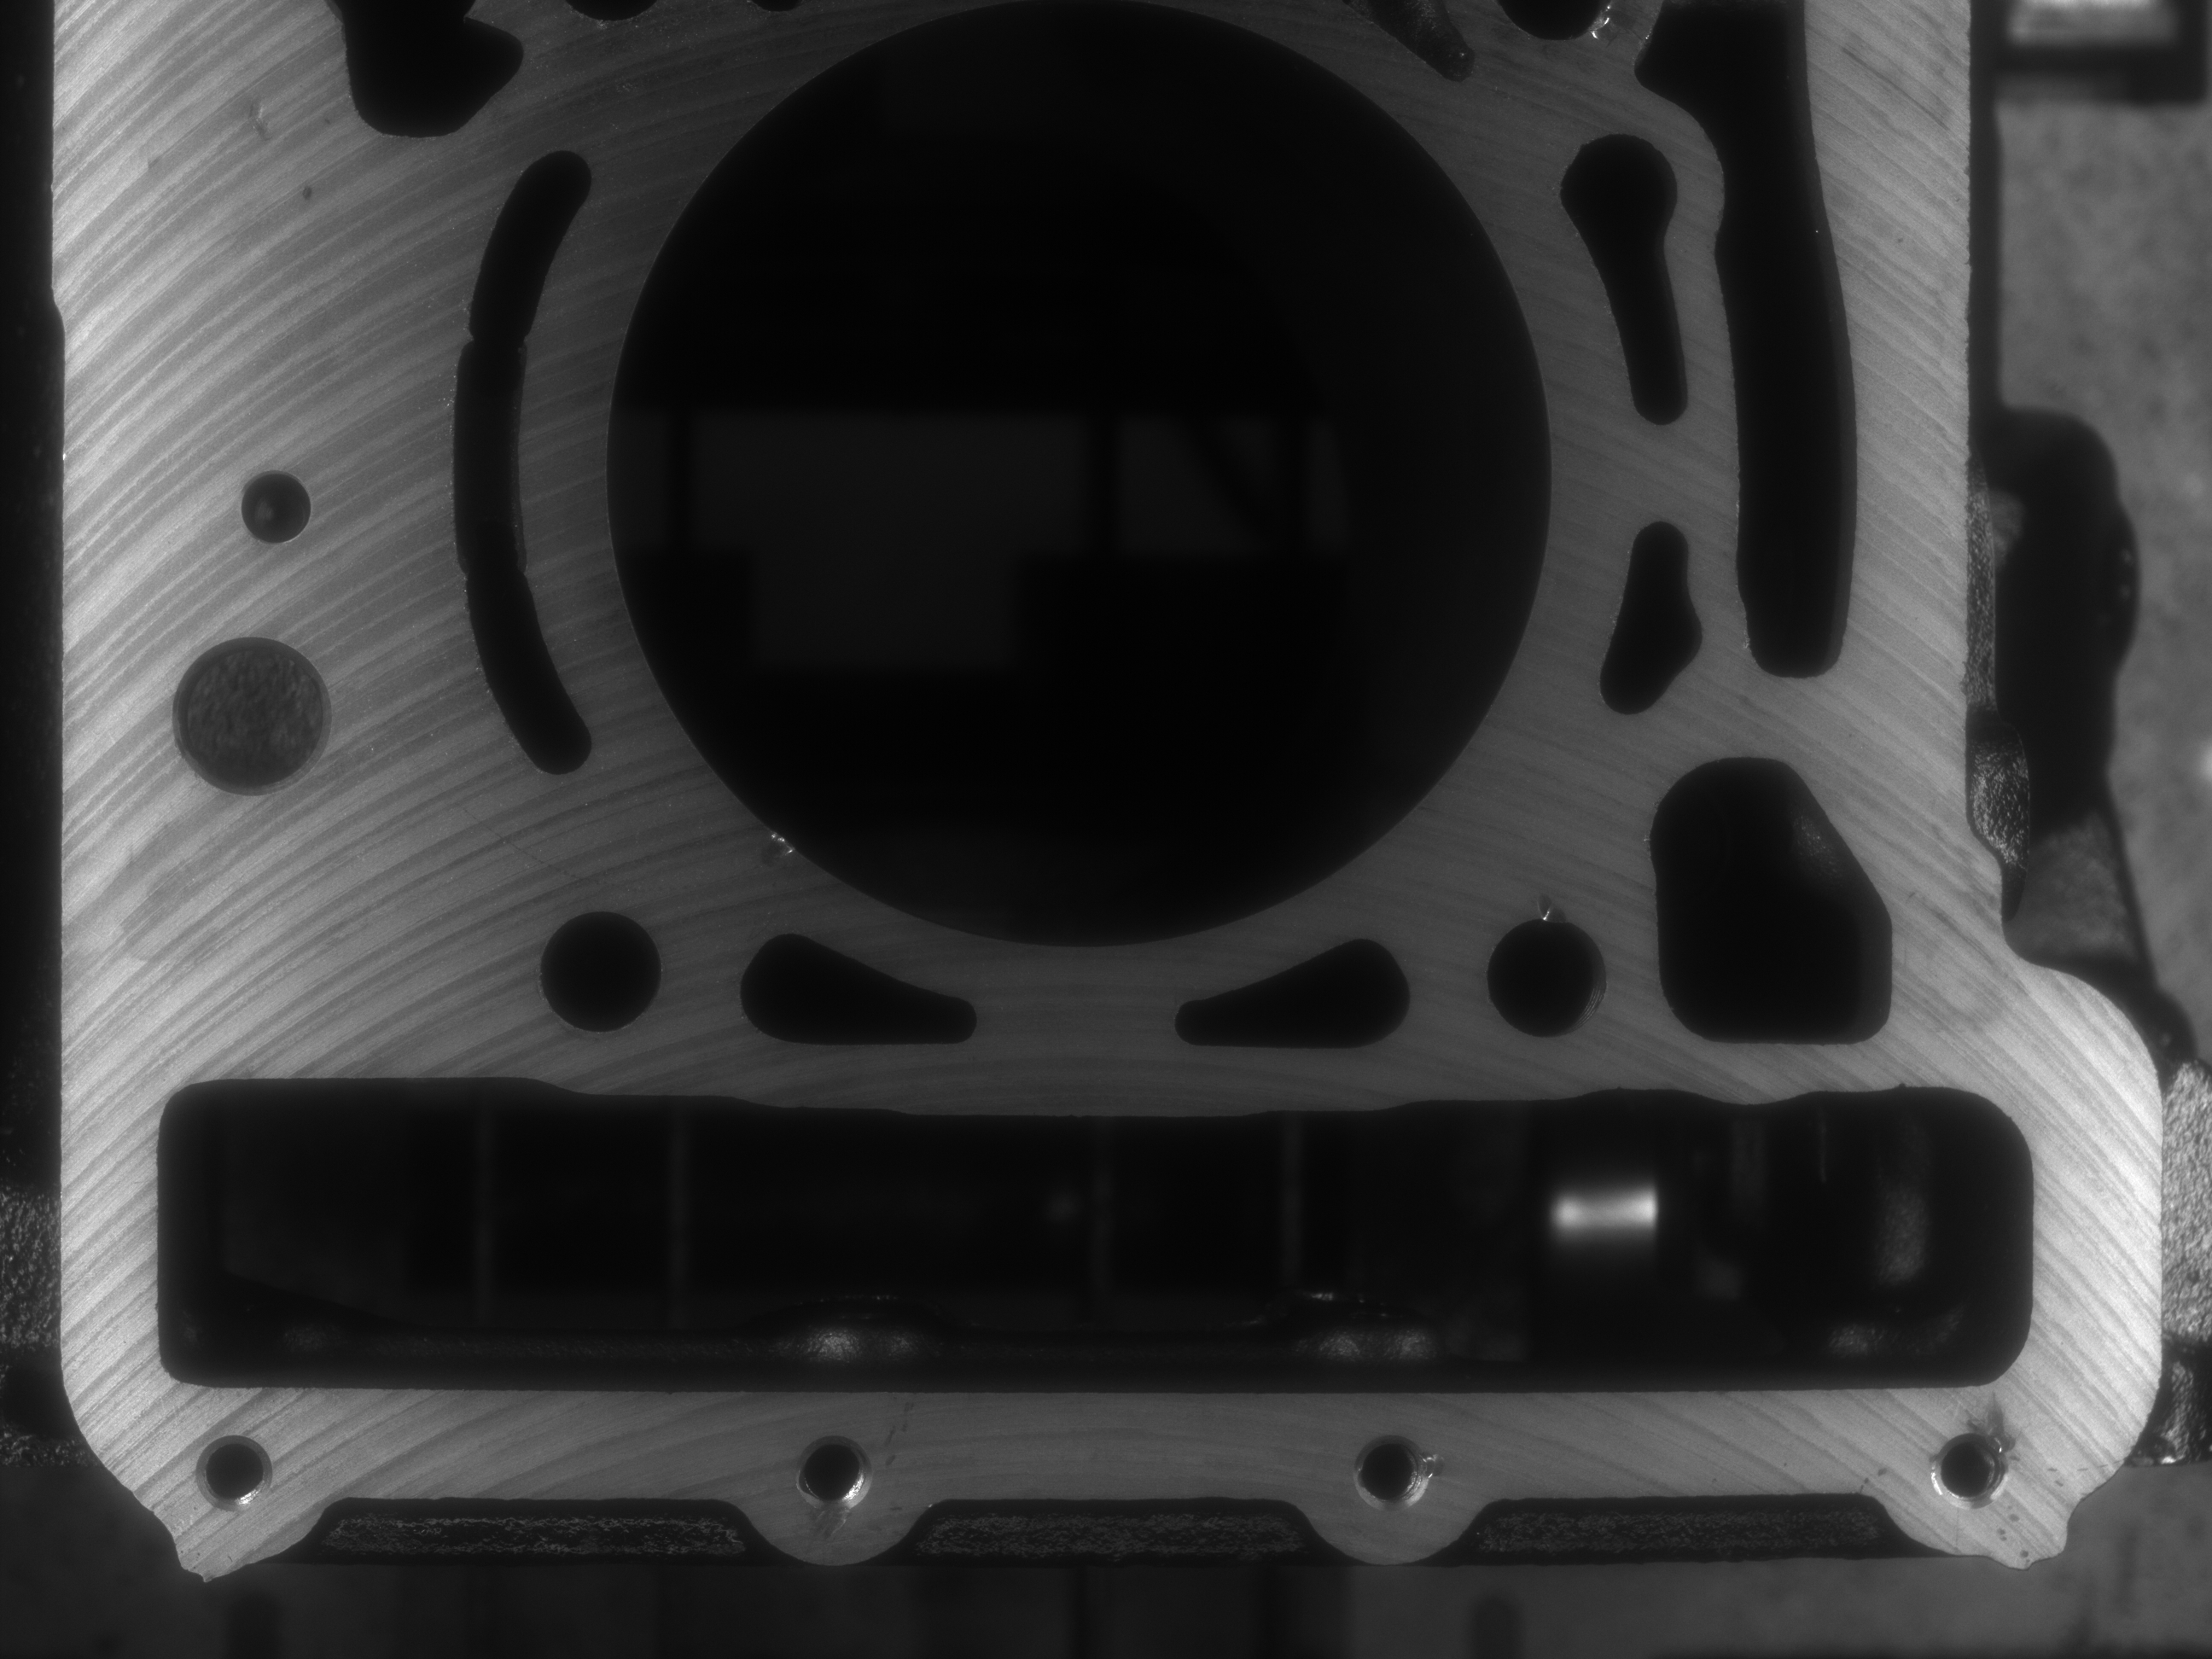shrinkage: (1519, 887, 1569, 929), (1592, 5, 1625, 52)
